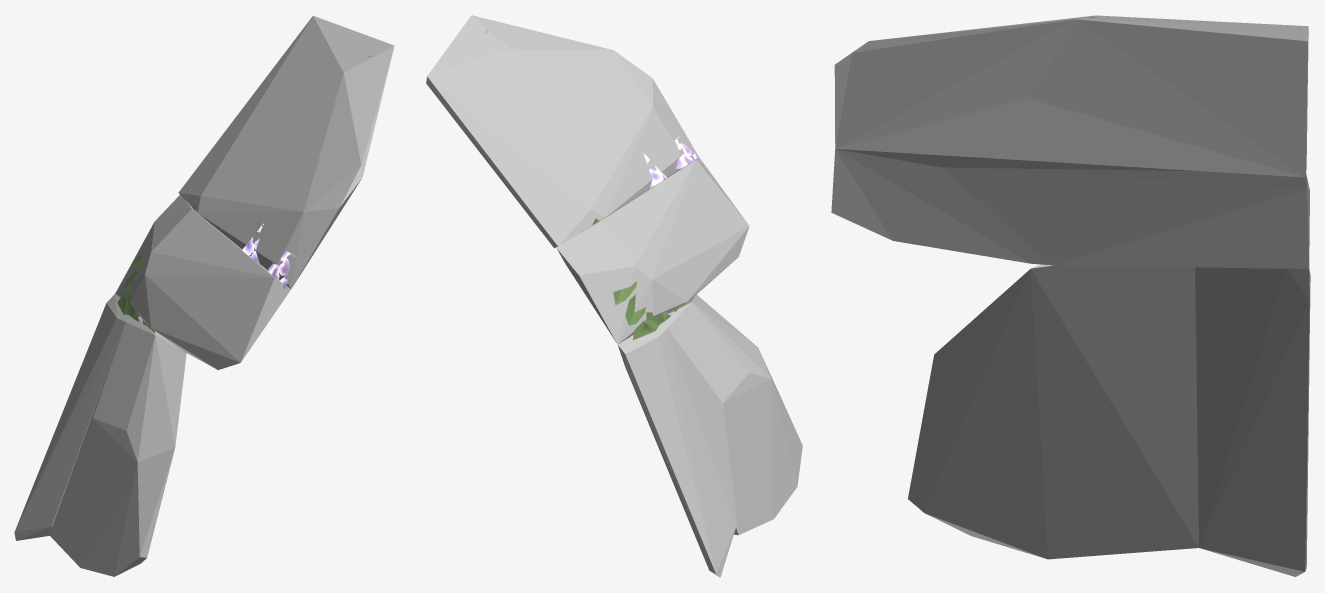
Rendered from SM_Env_Vines_Preset_Roof_Convex_05.fbx.
3 views of the same model, side by side, from view 1: azimuth 30°, elevation 25°; view 2: azimuth 150°, elevation 25°; view 3: azimuth 270°, elevation 25° (orthographic). The views are drawn at different scales.
Visible parts, largest first — view 1: SM_Env_Vines_Preset_Roof_Convex_05_ConvexHulls, SM_Env_Vines_Preset_Roof_Convex_05; view 2: SM_Env_Vines_Preset_Roof_Convex_05_ConvexHulls, SM_Env_Vines_Preset_Roof_Convex_05; view 3: SM_Env_Vines_Preset_Roof_Convex_05_ConvexHulls.
Boxes of the visible parts, box(x1,y1,x2,y2) form: SM_Env_Vines_Preset_Roof_Convex_05_ConvexHulls: box(14, 15, 394, 576); SM_Env_Vines_Preset_Roof_Convex_05: box(117, 56, 372, 332); SM_Env_Vines_Preset_Roof_Convex_05_ConvexHulls: box(426, 15, 802, 577); SM_Env_Vines_Preset_Roof_Convex_05: box(486, 29, 705, 340); SM_Env_Vines_Preset_Roof_Convex_05_ConvexHulls: box(831, 15, 1310, 576).
Bounding box in the file's own units: 179 × 128 × 249.
3 materials, 2 textured.
